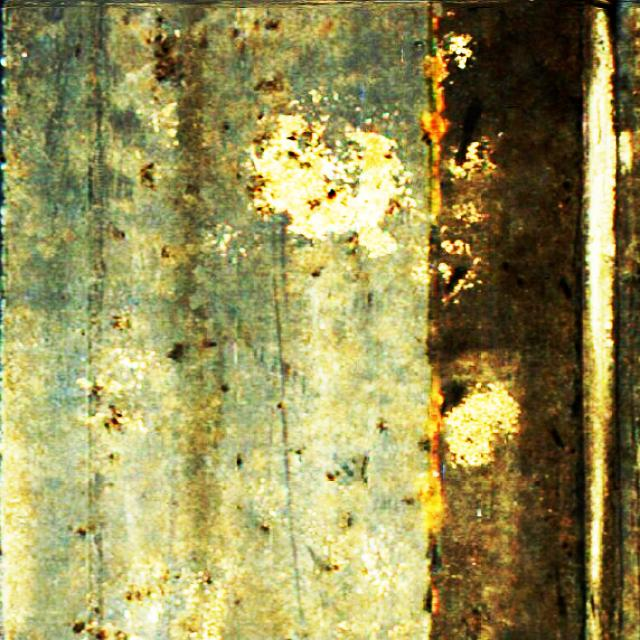Corrosion: (420, 46, 451, 217), (416, 375, 447, 531), (429, 586, 440, 614), (429, 17, 441, 31)
